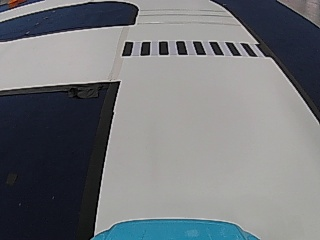CrossWalk: (116, 39, 265, 60)
